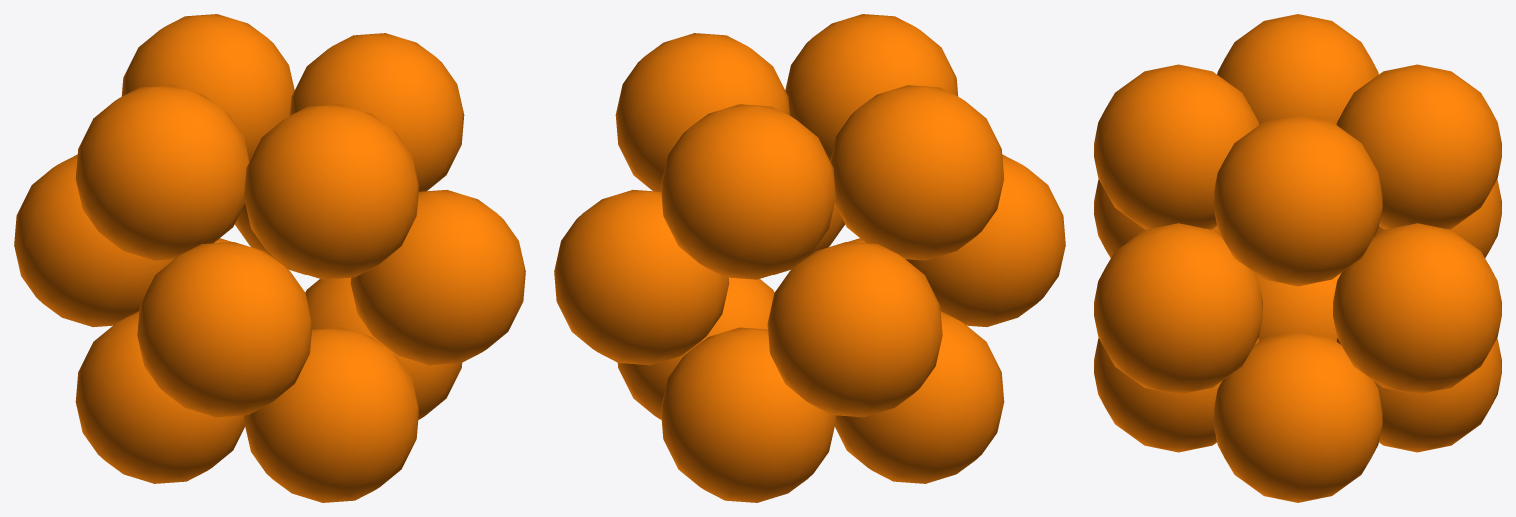
Rendered from quiz_108.dae.
3 renders of one model, left to right at view 1: azimuth 30°, elevation 25°; view 2: azimuth 150°, elevation 25°; view 3: azimuth 270°, elevation 25°, orthographic. The views are drawn at different scales.
Parts seen in each view (by area): view 1: geometry_verts0_0_fcc.off; view 2: geometry_verts0_0_fcc.off; view 3: geometry_verts0_0_fcc.off.
Part boxes in pixels (left/top/right/bottom): geometry_verts0_0_fcc.off: left=14, top=14, right=525, bottom=502; geometry_verts0_0_fcc.off: left=554, top=14, right=1065, bottom=502; geometry_verts0_0_fcc.off: left=1094, top=14, right=1501, bottom=502.
Size of the model in its own units: 1.71 by 1.71 by 1.71.
